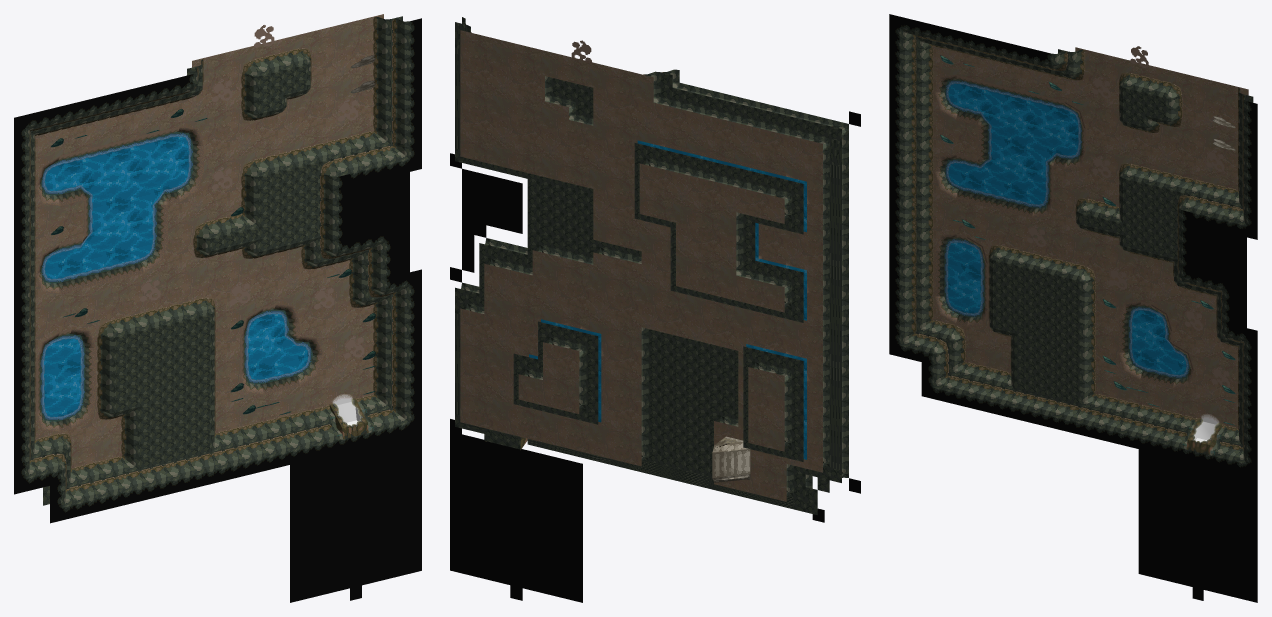
File: HGRT-Caves-v1_03_05.obj
3 renders of one model, left to right at view 1: azimuth 30°, elevation 25°; view 2: azimuth 150°, elevation 25°; view 3: azimuth 330°, elevation 25°, orthographic. The views are drawn at different scales.
Visible parts, largest first — view 1: map; view 2: map; view 3: map.
Part boxes in pixels (<box>): map: <box>14,14,421,602</box>; map: <box>450,17,860,602</box>; map: <box>889,14,1257,602</box>.
Size of the model in its own units: 34 by 46.5 by 4.
19 materials, 19 textured.
